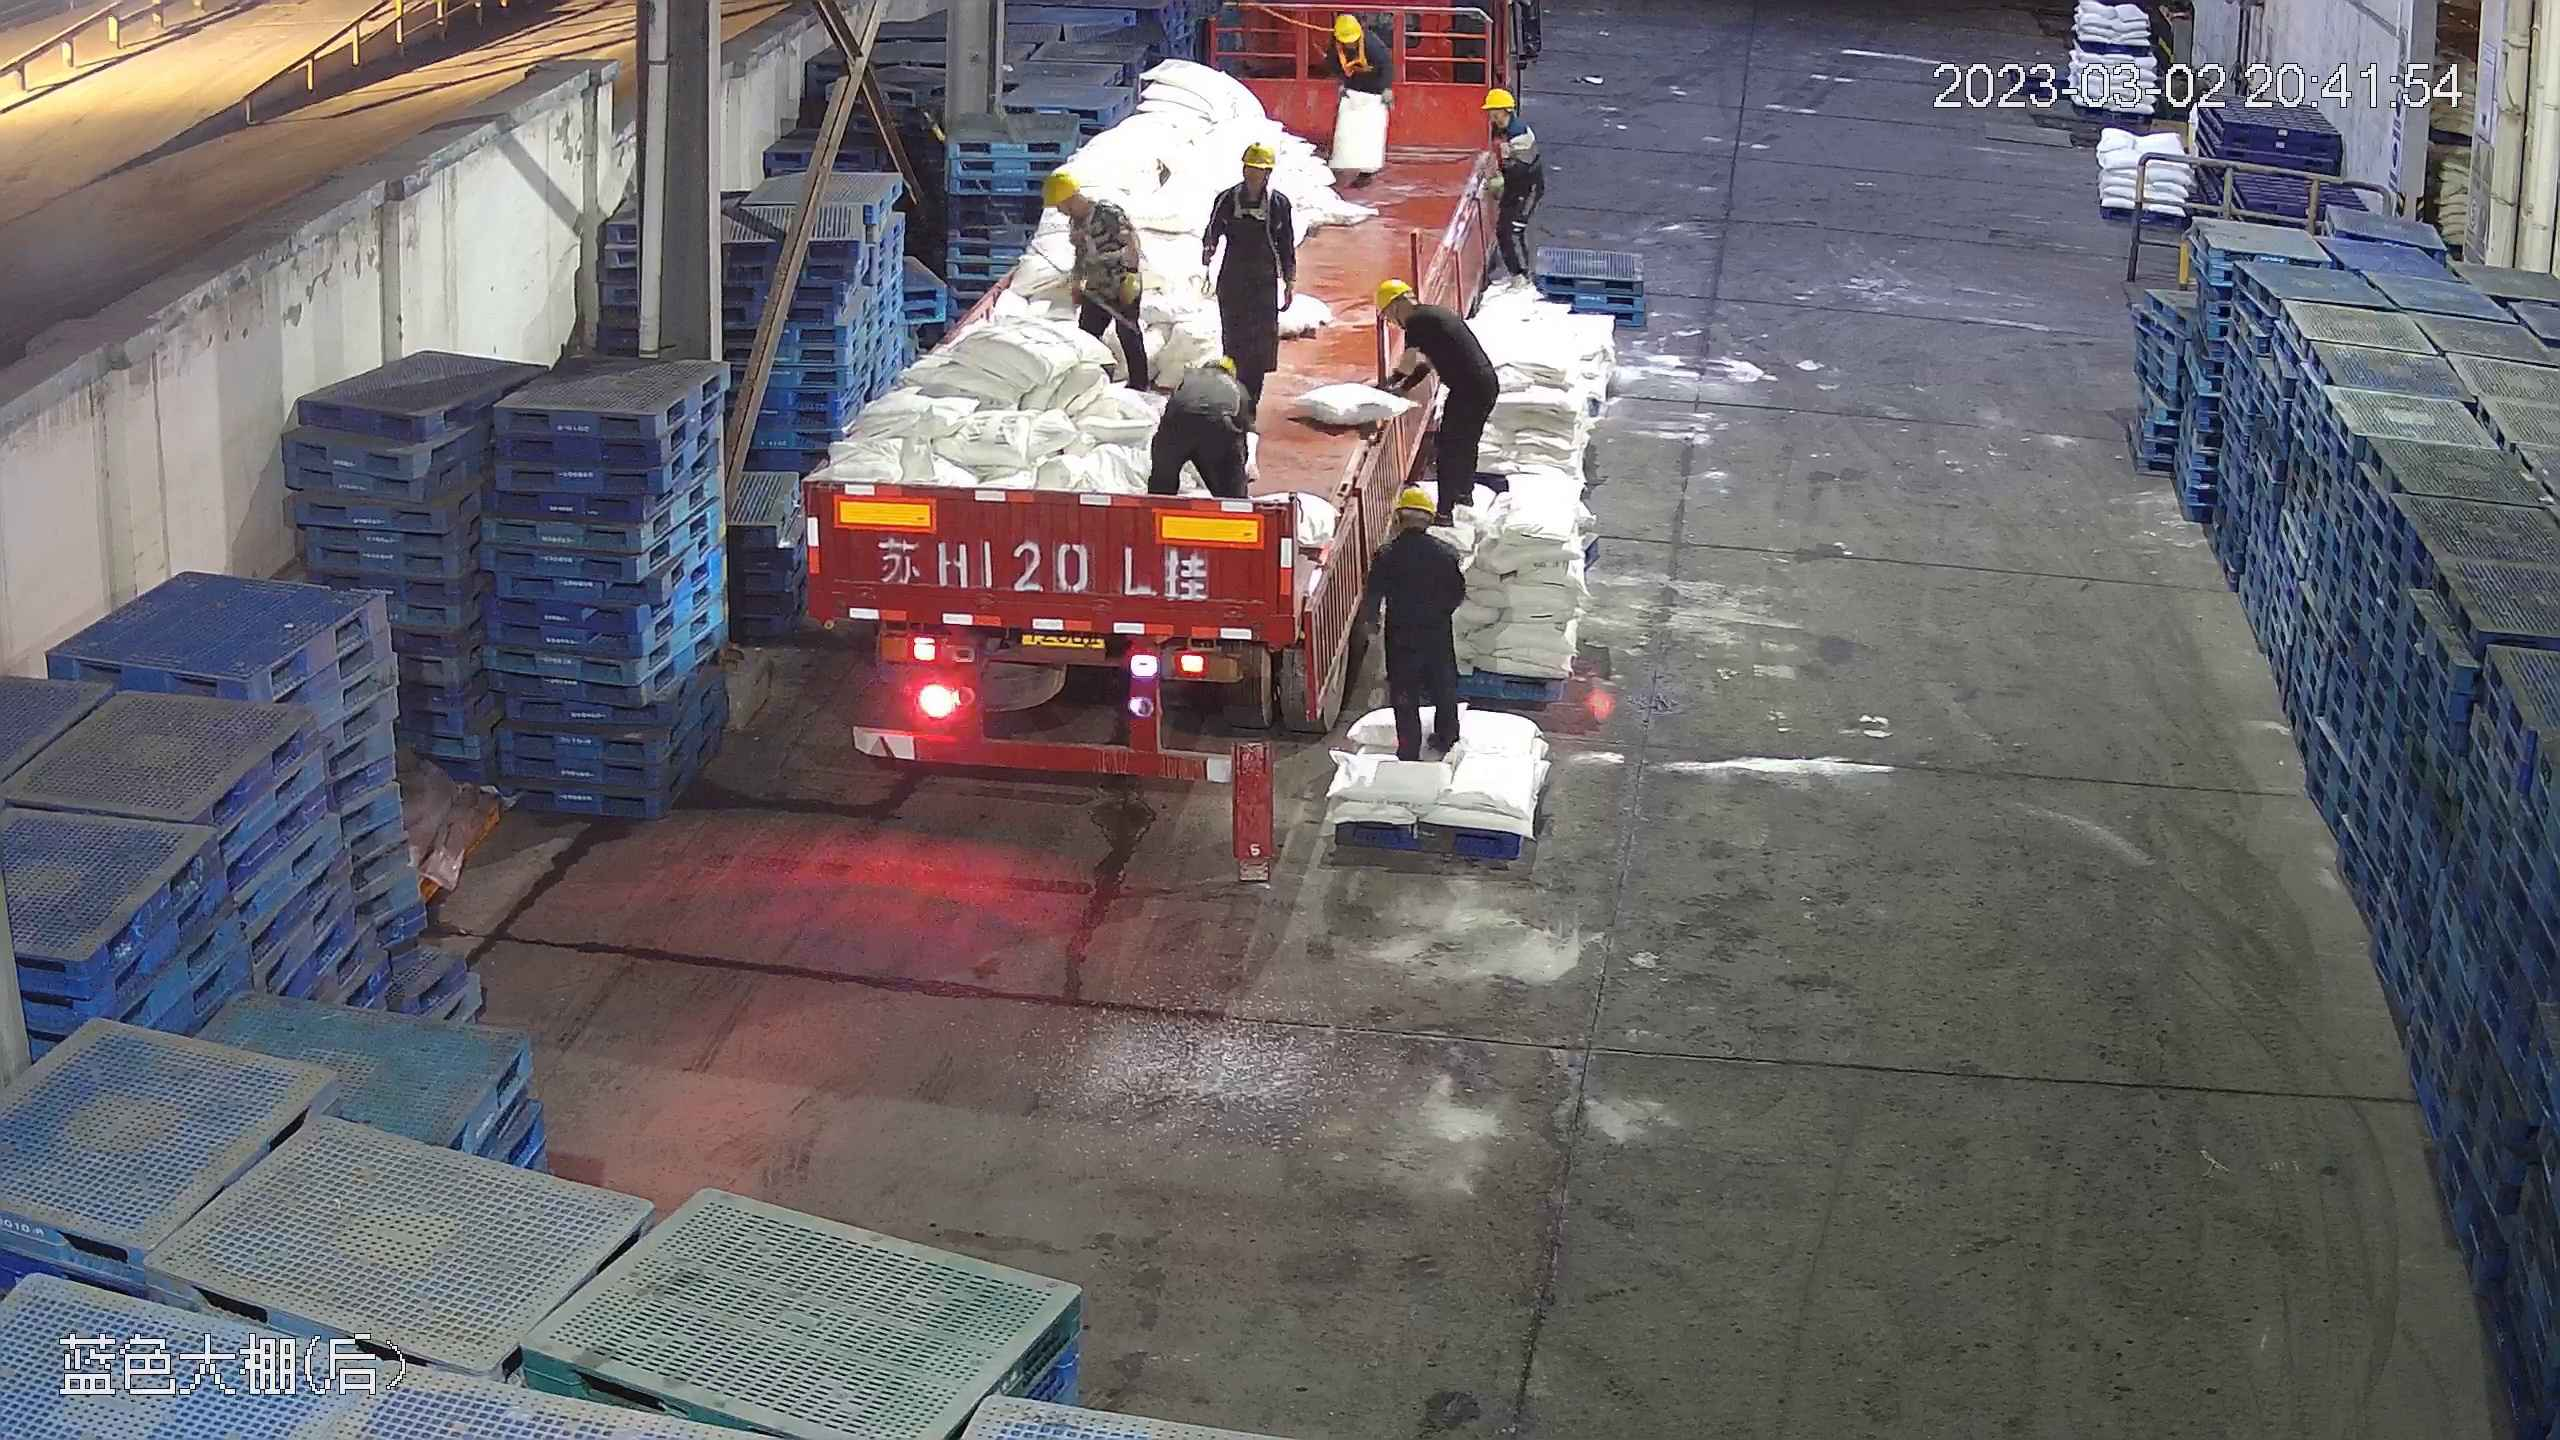belt: (1077, 199, 1139, 264), (1224, 177, 1284, 221), (1332, 38, 1372, 80)
head: (1375, 484, 1466, 572), (1210, 140, 1293, 225), (1166, 345, 1253, 424), (1370, 276, 1458, 354), (1040, 167, 1126, 242), (1481, 86, 1536, 160), (1325, 12, 1376, 60)
helmet: (1388, 483, 1438, 519), (1368, 276, 1411, 317), (1040, 168, 1083, 207), (1236, 140, 1276, 171), (1330, 13, 1362, 43), (1480, 87, 1515, 114), (1206, 354, 1239, 377)
people: (1365, 276, 1502, 517), (1368, 483, 1470, 757), (1200, 140, 1297, 410), (1042, 165, 1153, 395), (1476, 85, 1545, 309), (1311, 11, 1393, 191)
truck: (791, 33, 1551, 763)
